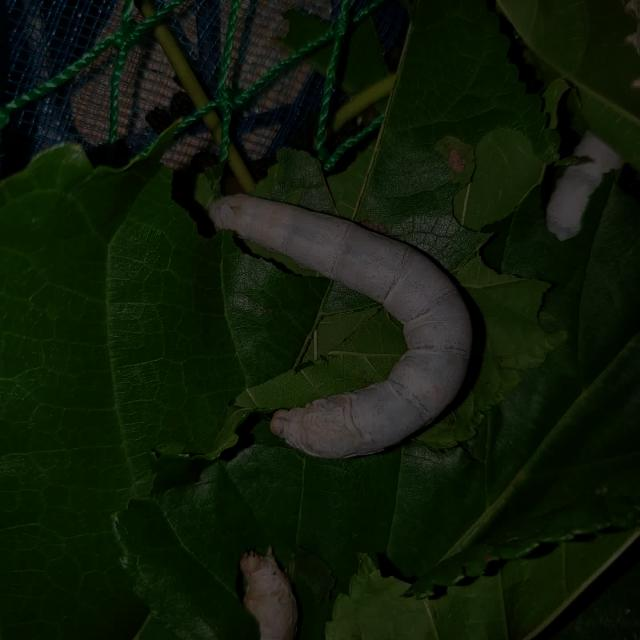Healthy: (204, 187, 476, 468)
